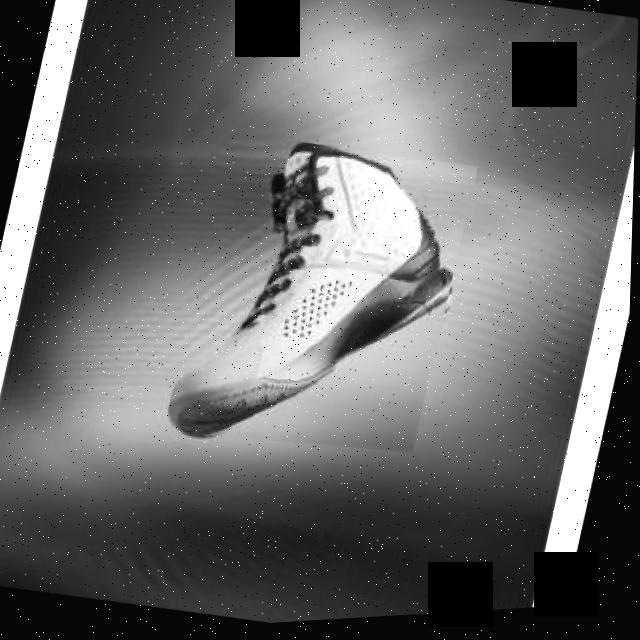shoe: (166, 124, 481, 483)
